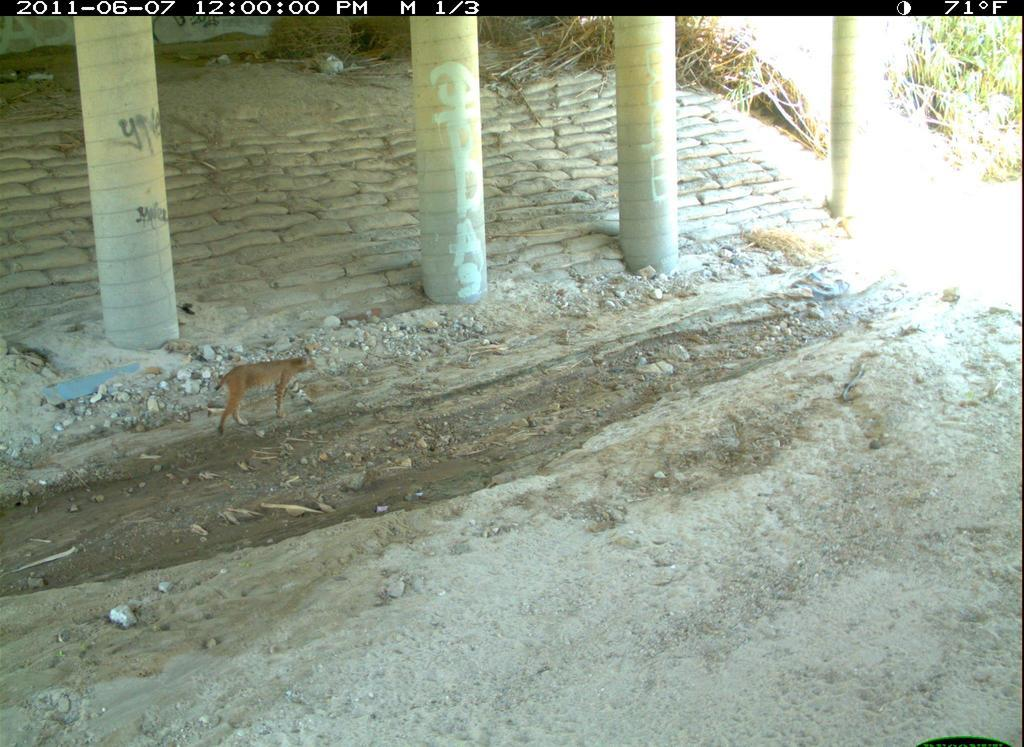bobcat: (413, 685, 647, 747)
